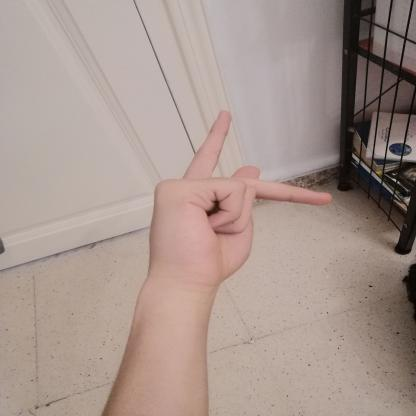DHAA: (133, 101, 344, 296)
